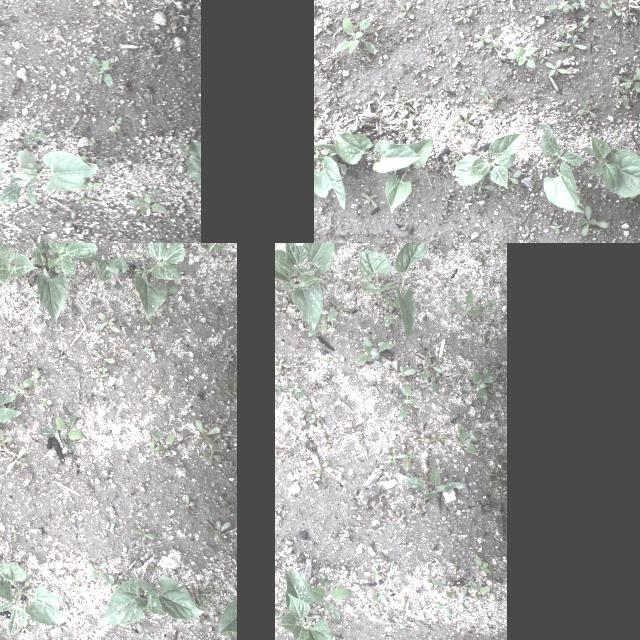crop: (353, 243, 438, 339), (95, 243, 184, 319), (275, 565, 353, 640), (275, 243, 335, 339), (0, 147, 97, 204), (98, 574, 204, 626), (29, 243, 97, 323), (0, 560, 65, 638), (537, 124, 587, 212), (574, 135, 640, 196), (453, 131, 523, 187), (383, 136, 432, 212), (335, 130, 421, 173), (314, 140, 344, 213), (0, 245, 36, 284), (218, 595, 236, 635), (186, 137, 200, 185), (232, 546, 236, 562)
weed: (328, 15, 378, 58), (402, 466, 464, 499), (36, 412, 86, 452), (374, 561, 394, 631), (124, 611, 169, 640), (576, 201, 610, 239), (441, 284, 481, 316), (82, 53, 112, 89), (470, 366, 500, 402), (0, 392, 20, 444), (419, 353, 443, 393), (356, 337, 392, 363), (128, 192, 168, 215), (85, 560, 116, 588), (508, 42, 540, 68), (396, 384, 418, 420), (193, 418, 221, 446), (149, 429, 179, 455), (308, 311, 338, 337), (552, 32, 590, 52), (611, 72, 633, 106), (456, 106, 480, 136), (6, 376, 34, 400), (459, 424, 481, 454), (203, 518, 230, 542), (470, 20, 490, 50), (310, 453, 330, 483), (275, 378, 307, 396), (578, 98, 604, 120), (386, 453, 414, 472), (7, 446, 30, 469), (94, 313, 120, 332), (544, 59, 572, 76), (597, 0, 622, 18), (394, 0, 416, 20), (31, 366, 50, 388), (540, 0, 569, 14), (468, 578, 488, 598), (88, 364, 110, 382), (222, 342, 236, 370), (20, 127, 44, 143), (90, 346, 114, 362), (130, 527, 156, 541), (314, 15, 332, 35), (204, 444, 222, 464), (305, 411, 323, 431), (371, 564, 389, 584), (83, 180, 105, 196), (179, 493, 195, 515), (476, 554, 492, 576), (484, 87, 502, 105), (0, 423, 12, 450), (63, 207, 79, 227), (362, 188, 378, 208), (452, 8, 472, 24), (144, 344, 160, 364), (195, 593, 215, 609), (571, 15, 589, 32), (178, 141, 195, 157), (275, 356, 288, 376), (435, 200, 451, 216), (150, 384, 166, 400), (218, 380, 236, 394), (6, 523, 20, 541), (303, 474, 321, 488), (631, 66, 640, 93), (550, 23, 572, 34), (70, 192, 90, 204), (144, 316, 156, 336), (444, 588, 468, 598), (399, 366, 416, 380), (510, 165, 520, 188), (471, 183, 499, 191), (436, 602, 452, 616), (201, 243, 223, 253), (524, 222, 536, 240), (550, 214, 562, 232), (570, 0, 588, 12), (396, 96, 414, 108), (226, 267, 236, 287), (64, 508, 78, 522), (384, 355, 398, 369), (110, 117, 122, 133), (146, 562, 162, 574), (147, 440, 159, 456), (51, 351, 67, 363), (408, 73, 419, 89), (444, 119, 458, 131), (85, 455, 97, 469), (402, 28, 412, 44), (38, 397, 52, 408), (440, 187, 452, 199), (526, 112, 542, 121), (588, 29, 600, 41), (281, 546, 293, 558), (484, 299, 498, 309), (85, 473, 96, 485), (592, 235, 608, 243), (47, 468, 61, 477), (86, 134, 98, 144), (488, 38, 500, 48), (626, 200, 638, 210), (70, 576, 78, 590), (275, 505, 282, 520), (498, 113, 508, 123), (492, 234, 503, 243), (17, 422, 25, 434), (75, 596, 83, 608), (426, 578, 442, 584), (109, 521, 115, 535), (198, 619, 208, 627), (217, 598, 227, 606), (207, 586, 220, 592), (314, 56, 320, 68), (323, 357, 332, 365), (635, 108, 640, 122), (138, 432, 148, 438), (352, 513, 361, 519), (226, 630, 230, 638), (9, 639, 15, 640)
